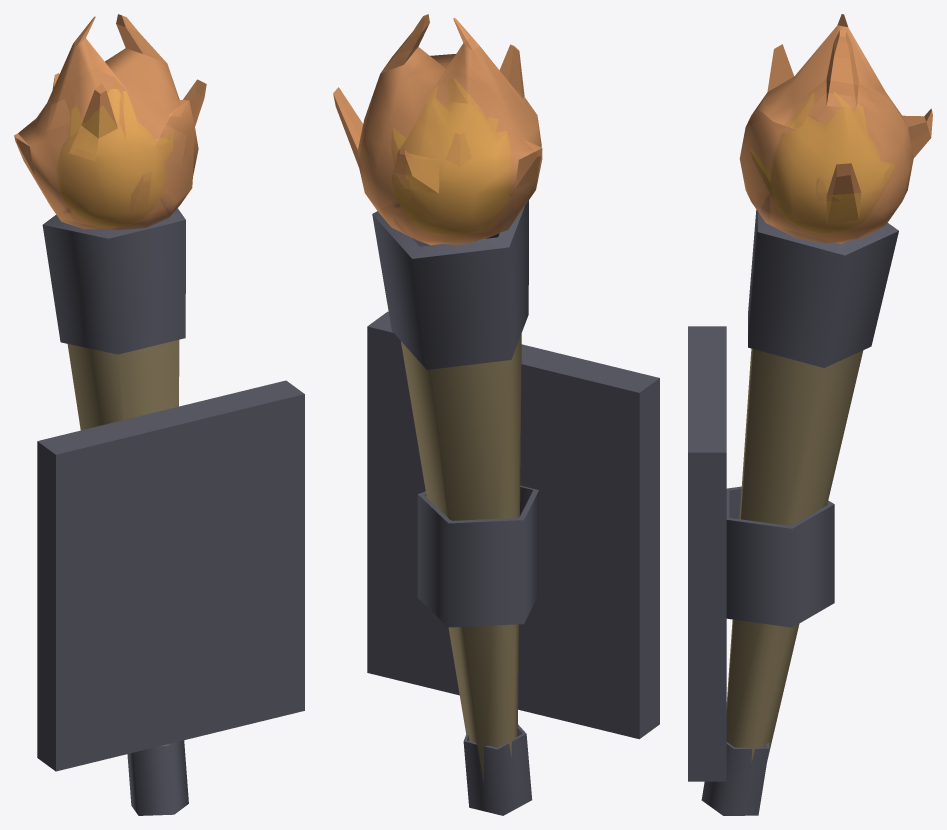
Rendered from flame.glb.
3 renders of one model, left to right at view 1: azimuth 30°, elevation 25°; view 2: azimuth 150°, elevation 25°; view 3: azimuth 270°, elevation 25°, orthographic. The views are drawn at different scales.
Parts seen in each view (by area): view 1: pCylinder51; view 2: pCylinder51; view 3: pCylinder51.
Part boxes in pixels (x1,y1,x2,y2): pCylinder51: [14, 14, 304, 815]; pCylinder51: [333, 14, 659, 815]; pCylinder51: [688, 14, 932, 815].
Size of the model in its own units: 0.9973 by 2.9 by 0.8177.
